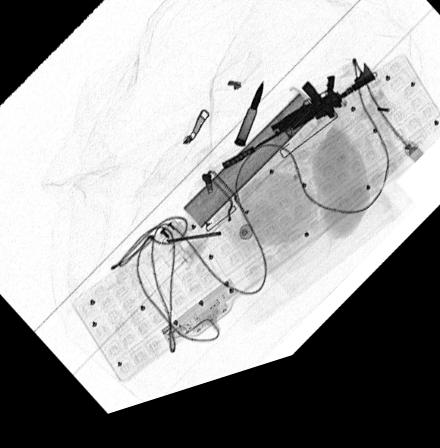Bullet: (235, 96, 265, 161)
Gun: (220, 86, 376, 184)
